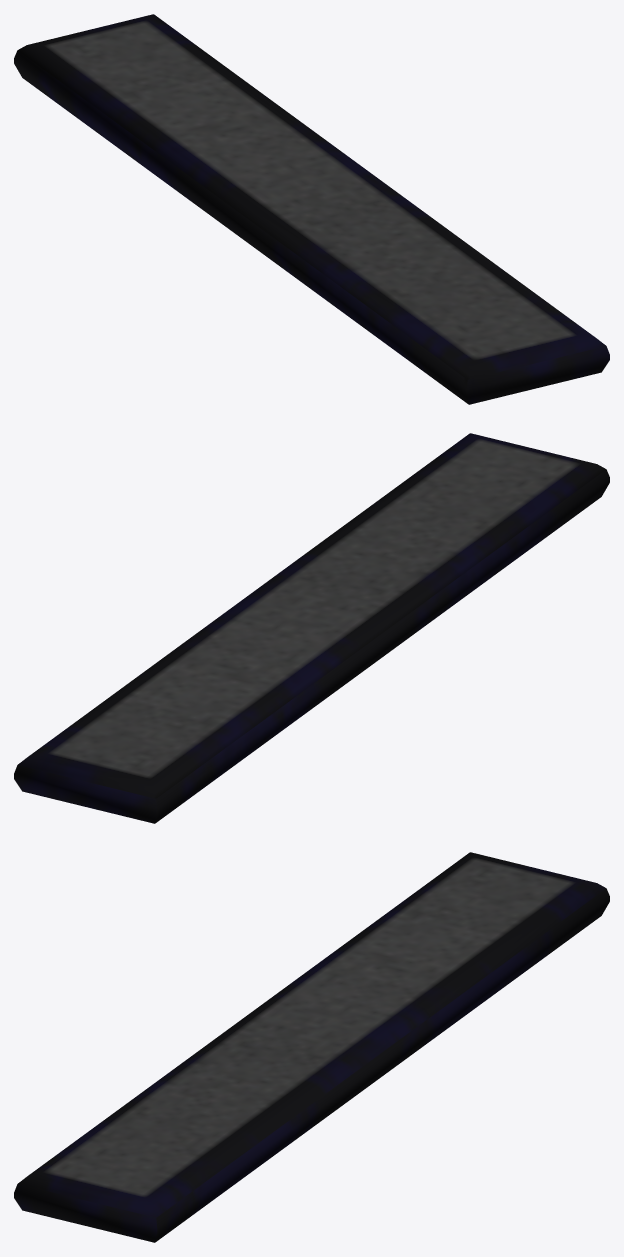
Rendered from bench.glb.
3 renders of one model, top to bottom at view 1: azimuth 30°, elevation 25°; view 2: azimuth 150°, elevation 25°; view 3: azimuth 330°, elevation 25°, orthographic.
Parts seen in each view (by area): view 1: bench; view 2: bench; view 3: bench.
Part boxes in pixels (left/top/right/bottom): bench: left=14, top=14, right=609, bottom=404; bench: left=14, top=433, right=609, bottom=823; bench: left=14, top=852, right=609, bottom=1242.
Size of the model in its own units: 0.4 by 0.1099 by 2.19.
2 materials, 1 textured.
